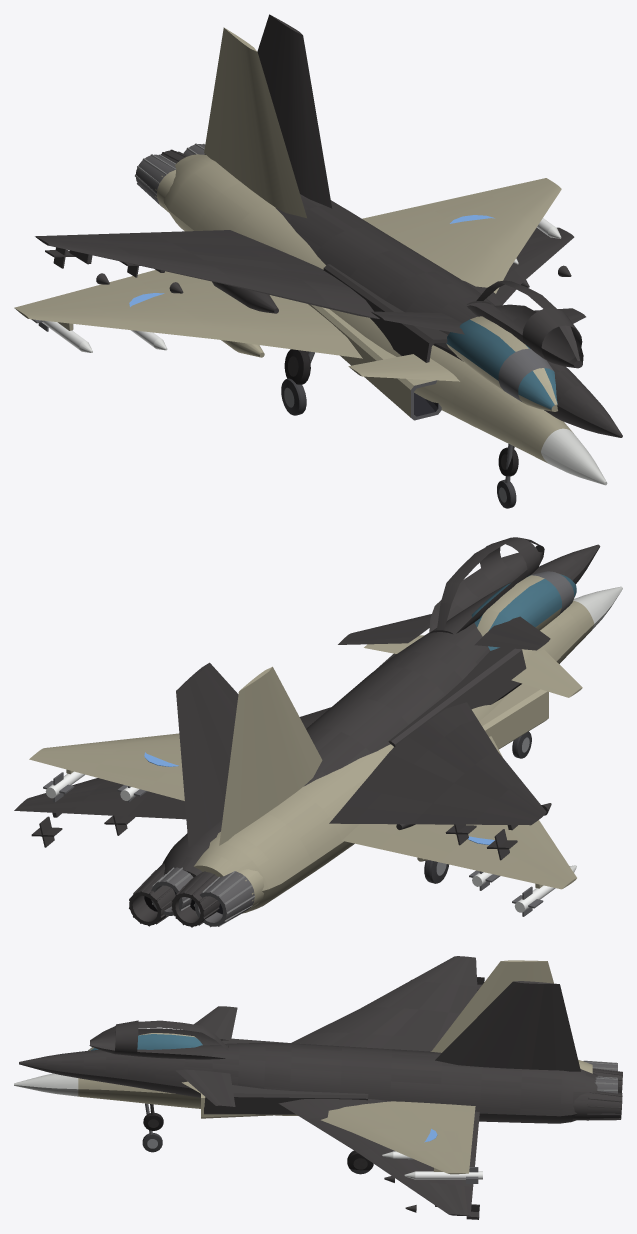
Rendered from jet__rafale_f_16.glb.
3 views of the same model, one above another, from view 1: azimuth 30°, elevation 25°; view 2: azimuth 150°, elevation 25°; view 3: azimuth 270°, elevation 25° (orthographic). The views are drawn at different scales.
Parts seen in each view (by area): view 1: Fuselage_Mesh, Wreck; view 2: Wreck, Fuselage_Mesh; view 3: Wreck, Fuselage_Mesh.
Boxes of the visible parts, x1,y1,x2,y2 form: Fuselage_Mesh: (14,27,607,508); Wreck: (35,14,622,476); Wreck: (14,537,600,927); Fuselage_Mesh: (29,571,622,927); Wreck: (19,956,622,1219); Fuselage_Mesh: (14,960,617,1183).
Size of what is drawn, in the model's own units: 11.19 by 5.34 by 15.46.
